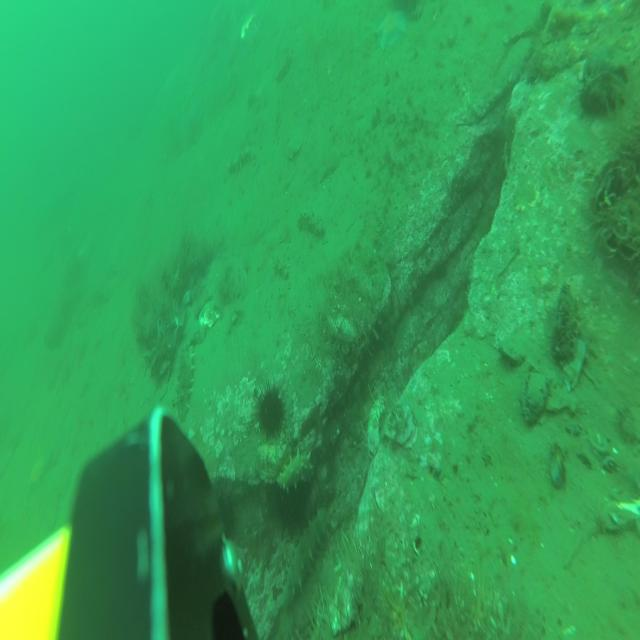echinus: (256, 381, 286, 444), (278, 484, 310, 535), (212, 489, 239, 547)
holothurian: (284, 507, 331, 603), (176, 341, 196, 425), (279, 448, 316, 490), (228, 146, 255, 176), (297, 210, 324, 238), (276, 51, 292, 84), (249, 86, 266, 111), (274, 257, 290, 282)
scallop: (228, 268, 248, 301), (200, 300, 220, 330), (284, 134, 304, 162)
starfish: (376, 8, 407, 54), (24, 453, 48, 497)
